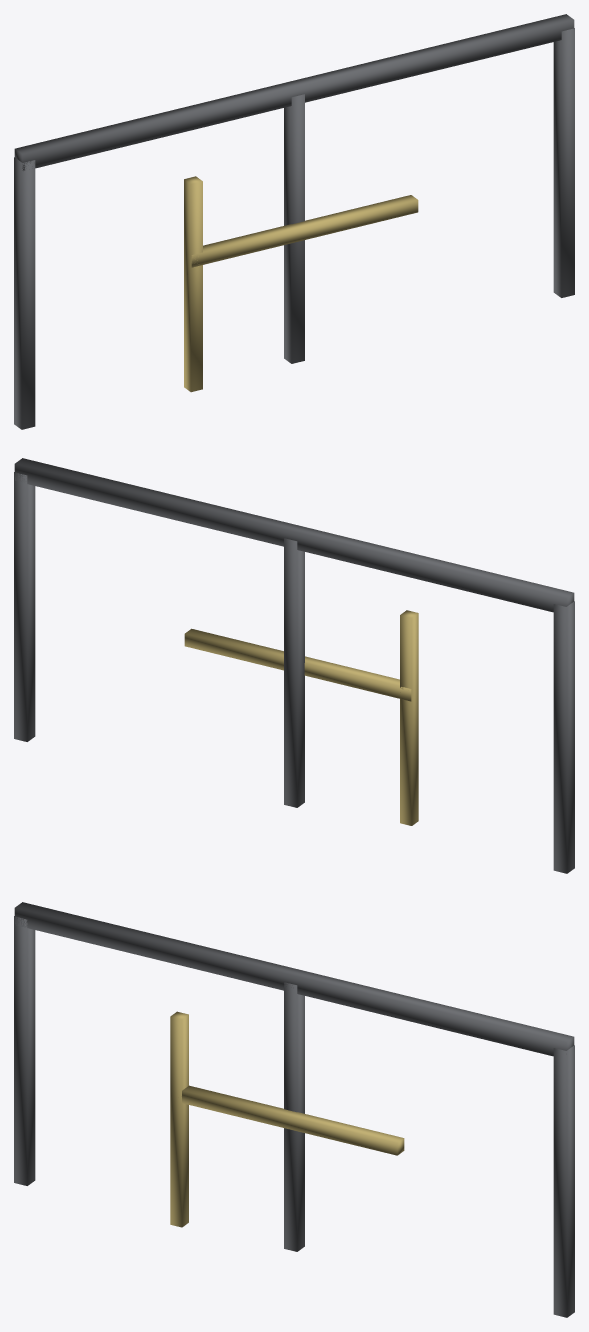
File: steel_gate_l180_h85.glb
3 views of the same model, one above another, from view 1: azimuth 30°, elevation 25°; view 2: azimuth 150°, elevation 25°; view 3: azimuth 330°, elevation 25° (orthographic).
Parts seen in each view (by area): view 1: world; view 2: world; view 3: world.
Part boxes in pixels (x1,y1,x2,y2): world: (14,14,574,429); world: (14,458,574,873); world: (14,902,574,1317).
Bounding box in the file's own units: 1.85 × 0.8775 × 0.0825.
